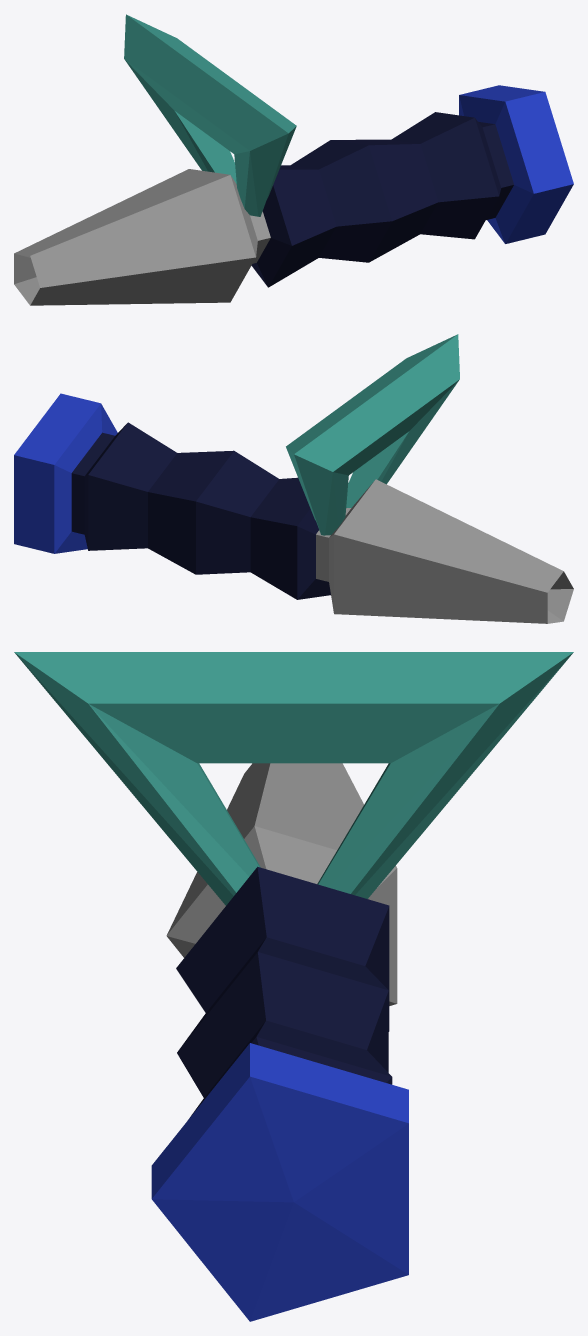
Rendered from MDL_MangueraBoca.FBX.
3 views of the same model, one above another, from view 1: azimuth 30°, elevation 25°; view 2: azimuth 150°, elevation 25°; view 3: azimuth 270°, elevation 25° (orthographic). The views are drawn at different scales.
Parts seen in each view (by area): view 1: Cylinder003; view 2: Cylinder003; view 3: Cylinder003.
Part boxes in pixels (<box>): Cylinder003: <box>14,14,573,305</box>; Cylinder003: <box>14,334,573,623</box>; Cylinder003: <box>14,652,573,1321</box>.
Bounding box in the file's own units: 45.7 × 19.72 × 25.23.
